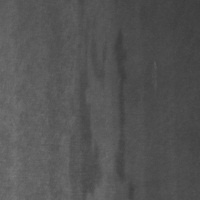inclusion: (71, 25, 110, 199), (109, 25, 135, 199)
